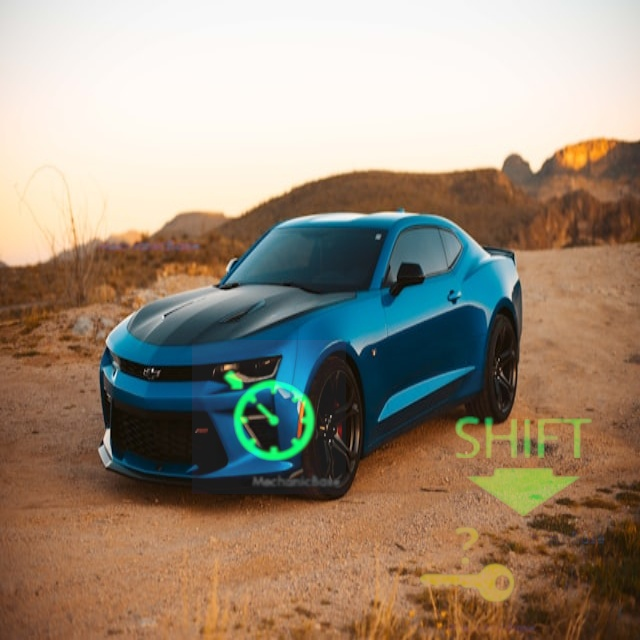symbol: (430, 371, 612, 553), (27, 80, 207, 260), (192, 340, 346, 494), (391, 490, 541, 640)
